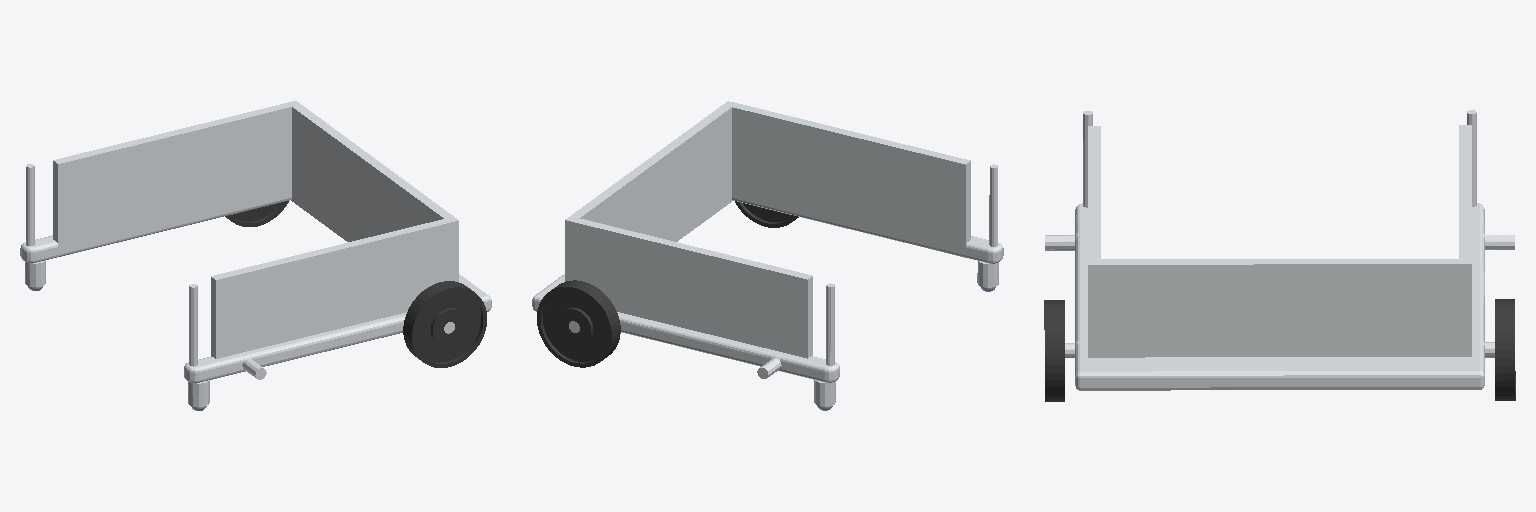
URDF robot description (Ball_robot):
<?xml version="1.0" encoding="utf-8"?>
<!-- This URDF was automatically created by SolidWorks to URDF Exporter! Originally created by [author] ([email redacted]) 
     Commit Version: 1.6.0-4-g7f85cfe  Build Version: 1.6.7995.38578
     For more information, please see http://wiki.ros.org/sw_urdf_exporter -->
<robot
  name="Ball_robot">

    <link name="base_footprint">
    	<visual>
    		<origin xyz="0 0 0" rpy="0 0 0"/>
    		<geometry>
    			<box size="0.001 0.001 0.001"/>
    		</geometry>
    	</visual>
    </link>
    
    <gazebo reference="base_footprint">
    	<turnGravityOff>false</turnGravityOff>
    </gazebo>
    
    <joint name="base_footprint_joint" type="fixed">
    	<origin xyz="0 0 0.04" rpy="3.14 3.14 0"/>
    	<parent link="base_footprint"/>
    	<child link="base_link"/>
    </joint>


  <link
    name="base_link">
    <inertial>
      <origin
        xyz="0 0 0"
        rpy="0 0 0" />
      <mass
        value="5.46840626526142" />
      <inertia
        ixx="0.142712269887465"
        ixy="1.38094742076743E-08"
        ixz="-0.00162299522382511"
        iyy="0.0806392914710564"
        iyz="-1.37877240871511E-08"
        izz="0.208143297265731" />
    </inertial>
    <visual>
      <origin
        xyz="0 0 0"
        rpy="0 0 0" />
      <geometry>
        <mesh
          filename="package://Ball_robot/meshes/base_link.STL" />
      </geometry>
      <material
        name="">
        <color
          rgba="0.898039215686275 0.917647058823529 0.929411764705882 1" />
      </material>
    </visual>
    <collision>
      <origin
        xyz="0 0 0"
        rpy="0 0 0" />
      <geometry>
        <mesh
          filename="package://Ball_robot/meshes/base_link.STL" />
      </geometry>
    </collision>
  </link>
  <link
    name="LW">
    <inertial>
      <origin
        xyz="0 0.00999999999999998 -5.063365338579E-18"
        rpy="0 0 0" />
      <mass
        value="0.105832402517806" />
      <inertia
        ixx="7.02666488891342E-05"
        ixy="3.24657686902134E-37"
        ixz="-1.16070861992056E-37"
        iyy="0.000135863451198401"
        iyz="4.54183257214983E-37"
        izz="7.02666488891342E-05" />
    </inertial>
    <visual>
      <origin
        xyz="0 0 0"
        rpy="0 0 0" />
      <geometry>
        <mesh
          filename="package://Ball_robot/meshes/LW.STL" />
      </geometry>
      <material
        name="">
        <color
          rgba="0.298039215686275 0.298039215686275 0.298039215686275 1" />
      </material>
    </visual>
    <collision>
      <origin
        xyz="0 0 0"
        rpy="0 0 0" />
      <geometry>
        <mesh
          filename="package://Ball_robot/meshes/LW.STL" />
      </geometry>
    </collision>
  </link>
  <joint
    name="LW_joint"
    type="continuous">
    <origin
      xyz="-0.125 -0.23 0.05"
      rpy="0 0 0" />
    <parent
      link="base_link" />
    <child
      link="LW" />
    <axis
      xyz="0 -1 0" />
    <limit
      effort="100"
      velocity="100" />
  </joint>
  <link
    name="RW">
    <inertial>
      <origin
        xyz="-2.77555756156289E-17 -0.01 5.7745189778732E-18"
        rpy="0 0 0" />
      <mass
        value="0.105832402517806" />
      <inertia
        ixx="7.02666488891342E-05"
        ixy="4.8128425556487E-23"
        ixz="8.33569721138529E-22"
        iyy="0.000135863451198401"
        iyz="1.05819533575749E-21"
        izz="7.02666488891342E-05" />
    </inertial>
    <visual>
      <origin
        xyz="0 0 0"
        rpy="0 0 0" />
      <geometry>
        <mesh
          filename="package://Ball_robot/meshes/RW.STL" />
      </geometry>
      <material
        name="">
        <color
          rgba="0.298039215686275 0.298039215686275 0.298039215686275 1" />
      </material>
    </visual>
    <collision>
      <origin
        xyz="0 0 0"
        rpy="0 0 0" />
      <geometry>
        <mesh
          filename="package://Ball_robot/meshes/RW.STL" />
      </geometry>
    </collision>
  </link>
  <joint
    name="RW_joint"
    type="continuous">
    <origin
      xyz="-0.125 0.23 0.05"
      rpy="0 0 0" />
    <parent
      link="base_link" />
    <child
      link="RW" />
    <axis
      xyz="0 1 0" />
    <limit
      effort="100"
      velocity="100" />
  </joint>
  <link
    name="LC">
    <inertial>
      <origin
        xyz="0 0 0"
        rpy="0 0 0" />
      <mass
        value="0.00418879020478639" />
      <inertia
        ixx="1.67551608191456E-07"
        ixy="1.04914126869469E-27"
        ixz="2.59966387807355E-26"
        iyy="1.67551608191456E-07"
        iyz="2.57787664477494E-24"
        izz="1.67551608191456E-07" />
    </inertial>
    <visual>
      <origin
        xyz="0 0 0"
        rpy="0 0 0" />
      <geometry>
        <mesh
          filename="package://Ball_robot/meshes/LC.STL" />
      </geometry>
      <material
        name="">
        <color
          rgba="0.792156862745098 0.819607843137255 0.933333333333333 1" />
      </material>
    </visual>
    <collision>
      <origin
        xyz="0 0 0"
        rpy="0 0 0" />
      <geometry>
        <mesh
          filename="package://Ball_robot/meshes/LC.STL" />
      </geometry>
    </collision>
  </link>
  <joint
    name="LC_joint"
    type="continuous">
    <origin
      xyz="0.183 -0.1875 0.01"
      rpy="0 0 0" />
    <parent
      link="base_link" />
    <child
      link="LC" />
    <axis
      xyz="0 0 -1" />
    <limit
      effort="100"
      velocity="100" />
  </joint>
  <link
    name="RC">
    <inertial>
      <origin
        xyz="0 0 0"
        rpy="0 0 0" />
      <mass
        value="0.00418879020478639" />
      <inertia
        ixx="1.67551608191456E-07"
        ixy="-5.90597443009158E-24"
        ixz="2.05802570796199E-25"
        iyy="1.67551608191456E-07"
        iyz="-4.53900653074979E-25"
        izz="1.67551608191456E-07" />
    </inertial>
    <visual>
      <origin
        xyz="0 0 0"
        rpy="0 0 0" />
      <geometry>
        <mesh
          filename="package://Ball_robot/meshes/RC.STL" />
      </geometry>
      <material
        name="">
        <color
          rgba="0.792156862745098 0.819607843137255 0.933333333333333 1" />
      </material>
    </visual>
    <collision>
      <origin
        xyz="0 0 0"
        rpy="0 0 0" />
      <geometry>
        <mesh
          filename="package://Ball_robot/meshes/RC.STL" />
      </geometry>
    </collision>
  </link>
  <joint
    name="RC_joint"
    type="continuous">
    <origin
      xyz="0.183 0.1875 0.01"
      rpy="0 0 0" />
    <parent
      link="base_link" />
    <child
      link="RC" />
    <axis
      xyz="0 0 -1" />
    <limit
      effort="100"
      velocity="100" />
  </joint>
  
<!--gazebo-->
<gazebo>
  <plugin name="differential_drive_controller" filename="libgazebo_ros_diff_drive.so">

    <!-- Plugin update rate in Hz -->
    <updateRate>10</updateRate>

    <!-- Name of left joint, defaults to `left_joint` -->
    <leftJoint>LW_joint</leftJoint>

    <!-- Name of right joint, defaults to `right_joint` -->
    <rightJoint>RW_joint</rightJoint>

    <!-- The distance from the center of one wheel to the other, in meters, defaults to 0.34 m -->
    <wheelSeparation>0.42</wheelSeparation>

    <!-- Diameter of the wheels, in meters, defaults to 0.15 m -->
    <wheelDiameter>0.10</wheelDiameter>

    <!-- Wheel acceleration, in rad/s^2, defaults to 0.0 rad/s^2 -->
    <wheelAcceleration>1.0</wheelAcceleration>

    <!-- Maximum torque which the wheels can produce, in Nm, defaults to 5 Nm -->
    <wheelTorque>20</wheelTorque>

    <!-- Topic to receive geometry_msgs/Twist message commands, defaults to `cmd_vel` -->
    <commandTopic>cmd_vel</commandTopic>

    <!-- Topic to publish nav_msgs/Odometry messages, defaults to `odom` -->
    <odometryTopic>odom</odometryTopic>

    <!-- Odometry frame, defaults to `odom` -->
    <odometryFrame>odom</odometryFrame>

    <!-- Robot frame to calculate odometry from, defaults to `base_footprint` -->
    <robotBaseFrame>base_footprint</robotBaseFrame>

    <!-- Odometry source, 0 for ENCODER, 1 for WORLD, defaults to WORLD -->
    <odometrySource>1</odometrySource>

    <!-- Set to true to publish transforms for the wheel links, defaults to false -->
    <publishWheelTF>true</publishWheelTF>

    <!-- Set to true to publish transforms for the odometry, defaults to true -->
    <publishOdom>true</publishOdom>

    <!-- Set to true to publish sensor_msgs/JointState on /joint_states for the wheel joints, defaults to false -->
    <publishWheelJointState>true</publishWheelJointState>

    <!-- Set to true to swap right and left wheels, defaults to true -->
    <legacyMode>false</legacyMode>
  </plugin>
</gazebo>

</robot>

--- Facts derived from the render (not from the file) ---
Views: 3 orthographic renders of the robot side by side, from view 1: azimuth 30°, elevation 25°; view 2: azimuth 150°, elevation 25°; view 3: azimuth 270°, elevation 25°.
Model Ball_robot with 6 links and 5 joints (4 continuous, 1 fixed), rooted at base_footprint, posed all joints at 0.
Links seen in each view (by area): view 1: base_link, RW, LW; view 2: base_link, LW, RW; view 3: base_link, LW, RW.
Link boxes in pixels (bbox=[...]): base_link: bbox=[20, 101, 491, 406]; RW: bbox=[403, 281, 486, 367]; LW: bbox=[225, 201, 288, 226]; base_link: bbox=[532, 101, 1003, 406]; LW: bbox=[537, 280, 620, 367]; RW: bbox=[735, 201, 798, 227]; base_link: bbox=[1045, 110, 1514, 390]; LW: bbox=[1495, 299, 1515, 400]; RW: bbox=[1044, 300, 1064, 401].
Bounding box of the posed robot: 0.4 × 0.4602 × 0.2011 m (x, y, z).
5 mesh visuals loaded from 5 distinct referenced files (5 binary STL).